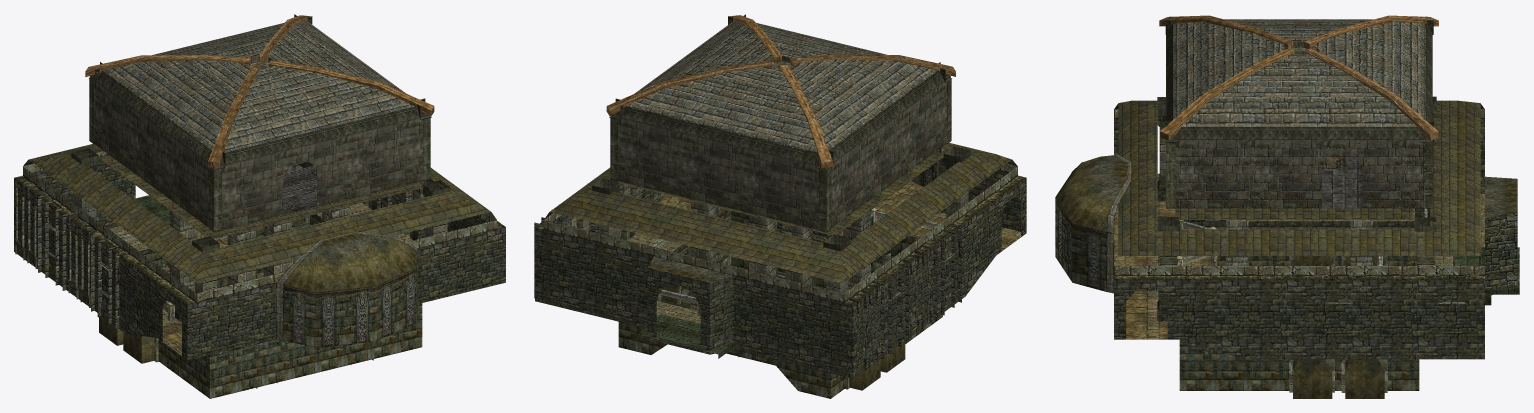
File: cci04.glb
The picture shows the model from 3 angles, left to right: view 1: azimuth 30°, elevation 25°; view 2: azimuth 150°, elevation 25°; view 3: azimuth 270°, elevation 25°; orthographic projection. The views are drawn at different scales.
Visible parts, largest first — view 1: cci04; view 2: cci04; view 3: cci04.
Boxes of the visible parts, x1,y1,x2,y2 form: cci04: (14,14,505,398); cci04: (534,14,1026,398); cci04: (1055,15,1519,398).
Size of the model in its own units: 18.39 by 14.78 by 21.3.
20 materials, 20 textured.
